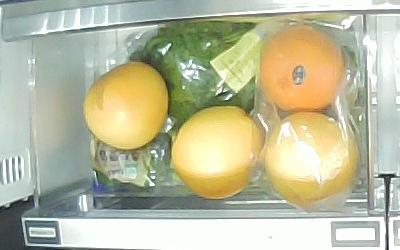grapefruit: (171, 105, 263, 199), (84, 61, 168, 149)
grapefruit_vinyl: (267, 113, 357, 207), (260, 26, 344, 112)
